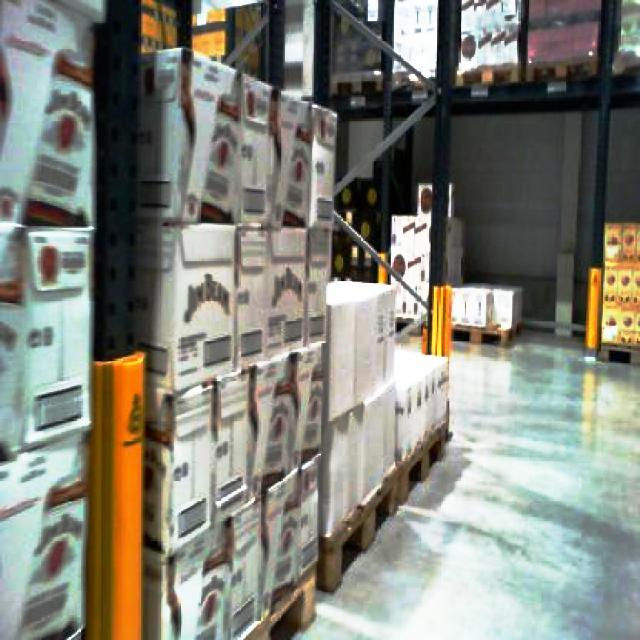ground: (268, 323, 638, 638)
pallet: (0, 284, 454, 638), (319, 0, 640, 99), (583, 218, 638, 371), (448, 282, 523, 346)
